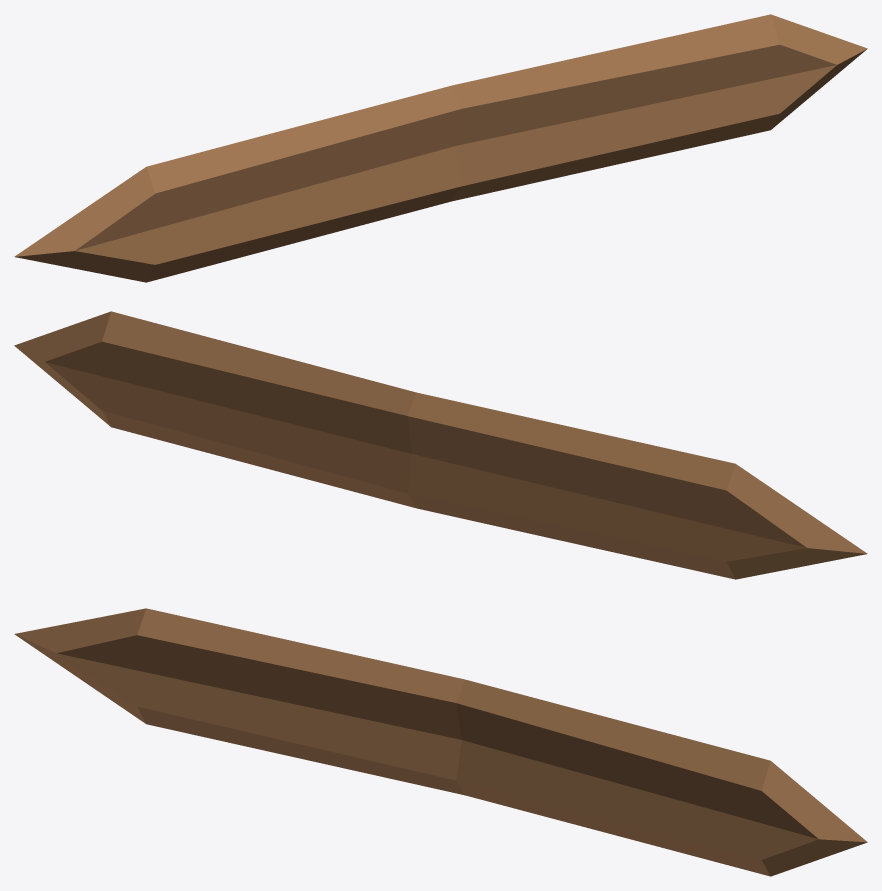
File: Plank_1.fbx
3 views of the same model, one above another, from view 1: azimuth 30°, elevation 25°; view 2: azimuth 150°, elevation 25°; view 3: azimuth 330°, elevation 25° (orthographic).
Visible parts, largest first — view 1: Plank_mesh; view 2: Plank_mesh; view 3: Plank_mesh.
Boxes of the visible parts, box(x1,y1,x2,y2) form: Plank_mesh: box(14, 14, 867, 282); Plank_mesh: box(14, 311, 867, 579); Plank_mesh: box(14, 608, 867, 876).
Bounding box in the file's own units: 411 × 53.29 × 20.83.
